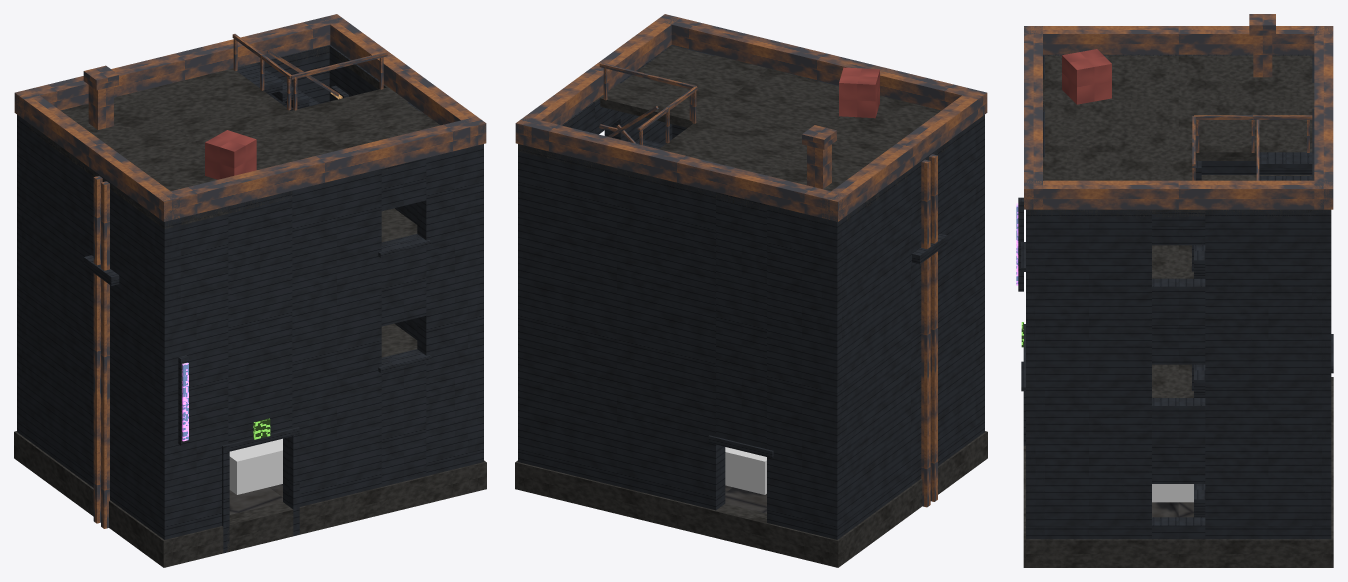
File: Hesperus_ApartmentComplex1.glb
The picture shows the model from 3 angles, left to right: view 1: azimuth 30°, elevation 25°; view 2: azimuth 150°, elevation 25°; view 3: azimuth 270°, elevation 25°; orthographic projection. The views are drawn at different scales.
Parts seen in each view (by area): view 1: APT_WestWall, APT_FrontPierM, APT_FrontPierL, APT_FrontPierR, APT_Roof_Main, APT_FrontDoorHead, APT_Parapet_F, APT_Plinth_F, APT_Parapet_B, APT_FrontWinBand0, APT_Parapet_W, APT_Roof_StripS (+20 smaller); view 2: APT_BackPierR, APT_WestWall, APT_BackPierL, APT_Roof_Main, APT_BackDoorHead, APT_Parapet_B, APT_Plinth_B, APT_Parapet_F, APT_Roof_StripS, APT_Parapet_W, APT_Parapet_E, APT_Plinth_W (+11 smaller); view 3: APT_EastBandN, APT_EastBandS, APT_Roof_Main, APT_Plinth_E, APT_Parapet_E, APT_Parapet_W, APT_BackPierR, APT_FrontPierR, APT_Roof_StripS, APT_EastWinM1, APT_EastWinM0, APT_Parapet_B (+15 smaller).
Boxes of the visible parts, left/top/right/bottom form: APT_WestWall: left=26, top=121, right=180, bottom=539; APT_FrontPierM: left=283, top=169, right=381, bottom=506; APT_FrontPierL: left=155, top=206, right=228, bottom=539; APT_FrontPierR: left=417, top=144, right=483, bottom=475; APT_Roof_Main: left=26, top=68, right=342, bottom=228; APT_FrontDoorHead: left=228, top=191, right=292, bottom=443; APT_Parapet_F: left=154, top=116, right=485, bottom=221; APT_Plinth_F: left=154, top=460, right=486, bottom=567; APT_Parapet_B: left=14, top=14, right=345, bottom=118; APT_FrontWinBand0: left=381, top=349, right=426, bottom=486; APT_Parapet_W: left=14, top=93, right=179, bottom=221; APT_Roof_StripS: left=291, top=87, right=483, bottom=173; APT_BackPierR: left=518, top=144, right=725, bottom=510; APT_WestWall: left=821, top=114, right=984, bottom=539; APT_BackPierL: left=767, top=204, right=846, bottom=539; APT_Roof_Main: left=630, top=68, right=976, bottom=226; APT_BackDoorHead: left=716, top=192, right=766, bottom=449; APT_Parapet_B: left=516, top=116, right=847, bottom=221; APT_Plinth_B: left=515, top=460, right=848, bottom=567; APT_Parapet_F: left=656, top=14, right=987, bottom=119; APT_Roof_StripS: left=599, top=45, right=768, bottom=127; APT_Parapet_W: left=822, top=95, right=977, bottom=221; APT_Parapet_E: left=515, top=14, right=680, bottom=146; APT_Plinth_W: left=820, top=431, right=987, bottom=566; APT_EastBandN: left=1205, top=209, right=1331, bottom=539; APT_EastBandS: left=1026, top=209, right=1151, bottom=539; APT_Roof_Main: left=1043, top=54, right=1314, bottom=160; APT_Plinth_E: left=1023, top=531, right=1333, bottom=567; APT_Parapet_E: left=1024, top=180, right=1333, bottom=209; APT_Parapet_W: left=1024, top=26, right=1333, bottom=54; APT_BackPierR: left=1312, top=108, right=1331, bottom=539; APT_FrontPierR: left=1026, top=179, right=1044, bottom=539; APT_Roof_StripS: left=1026, top=152, right=1193, bottom=217; APT_EastWinM1: left=1152, top=278, right=1205, bottom=364; APT_EastWinM0: left=1152, top=398, right=1205, bottom=483; APT_Parapet_B: left=1314, top=26, right=1333, bottom=209.
Bounding box in the file's own units: 10.31 × 12.9 × 8.31.
10 materials, 8 textured.
